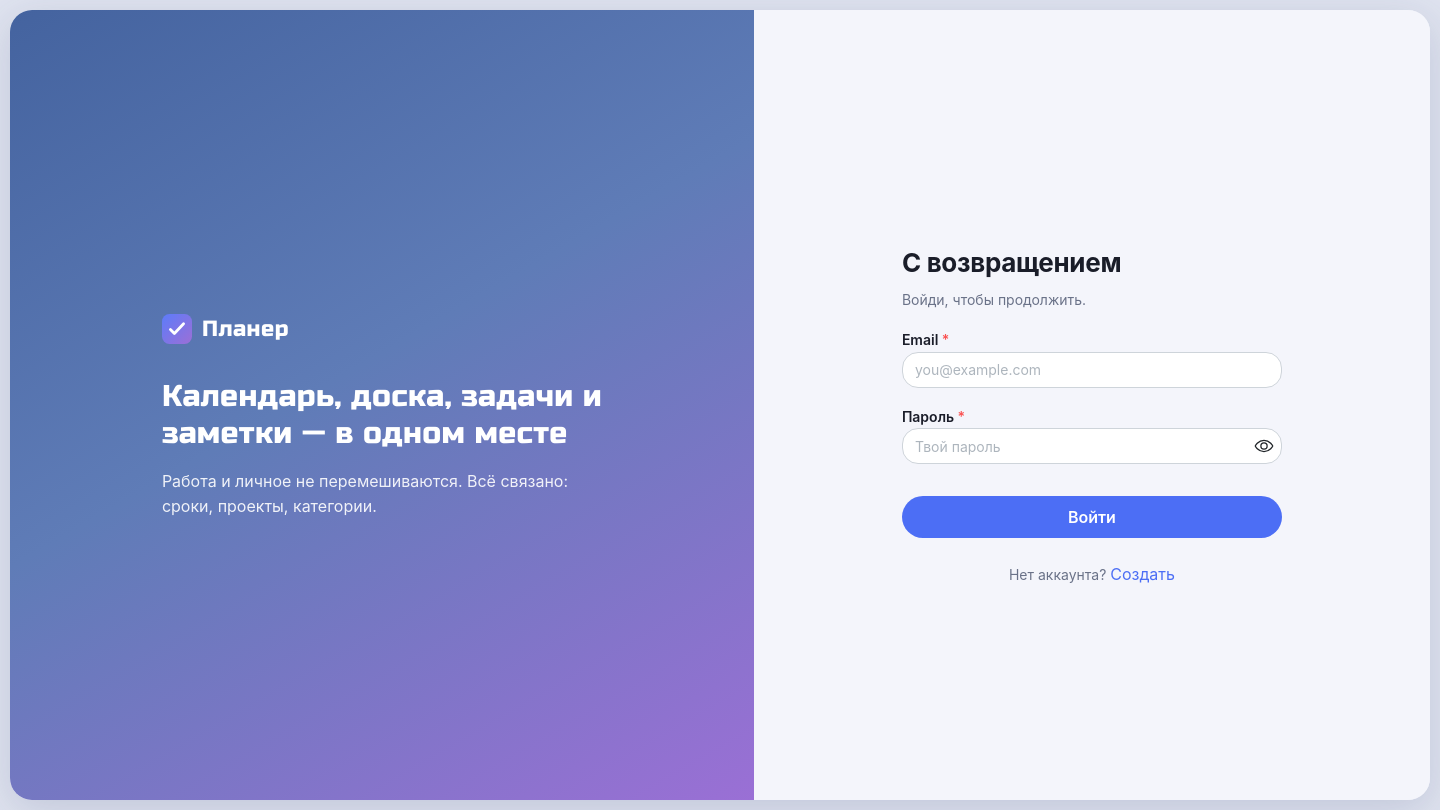
AuthScreen › регистрация: поле имени и первая ошибка поля с сервера
Expected: the field labelled "Имя" is not shown
Step 1. Click the button "Создать" → (1142, 575), box [1110,562,1175,587]
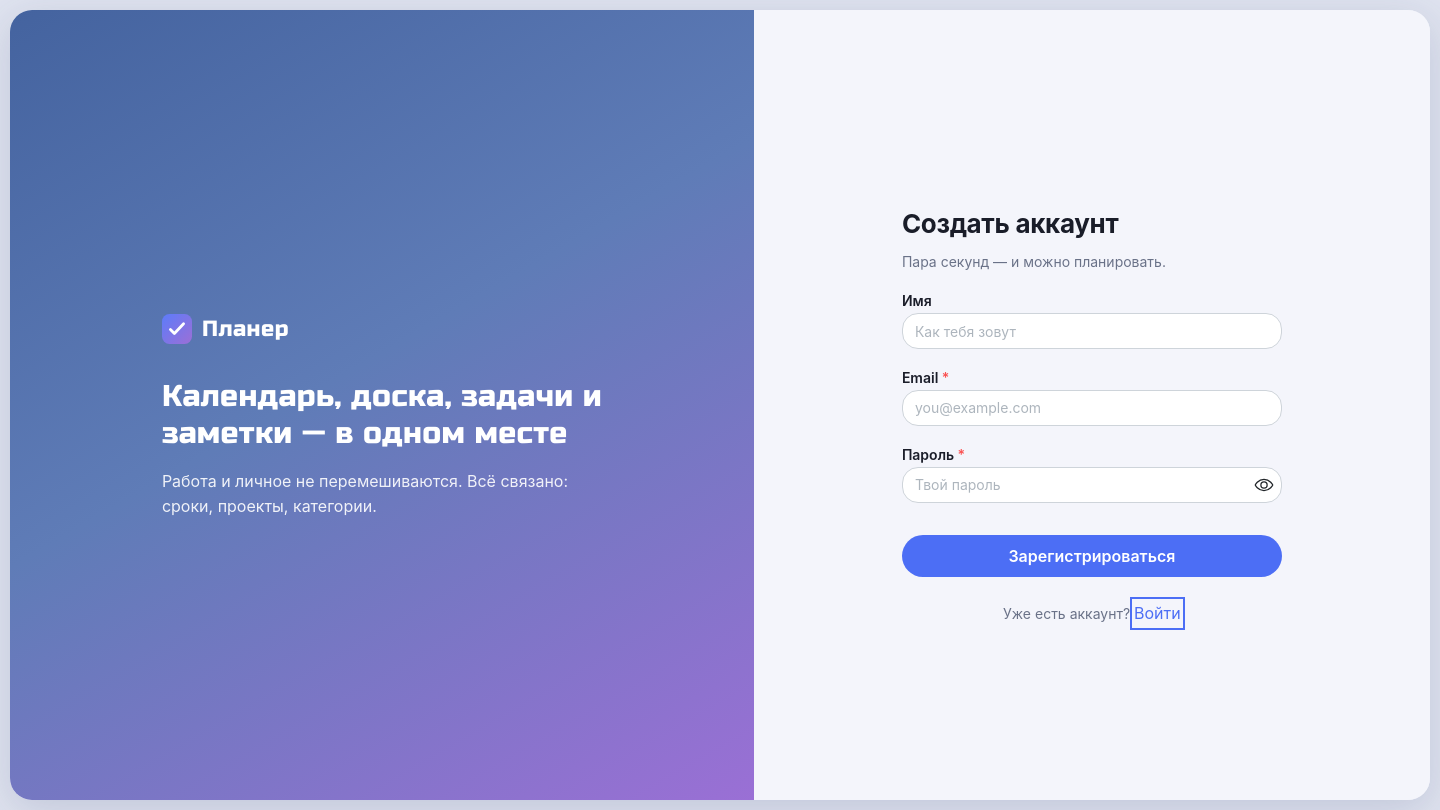
Step 2. Type "Маша" into the field labelled "Имя" → (1092, 331), box [902,313,1282,349]
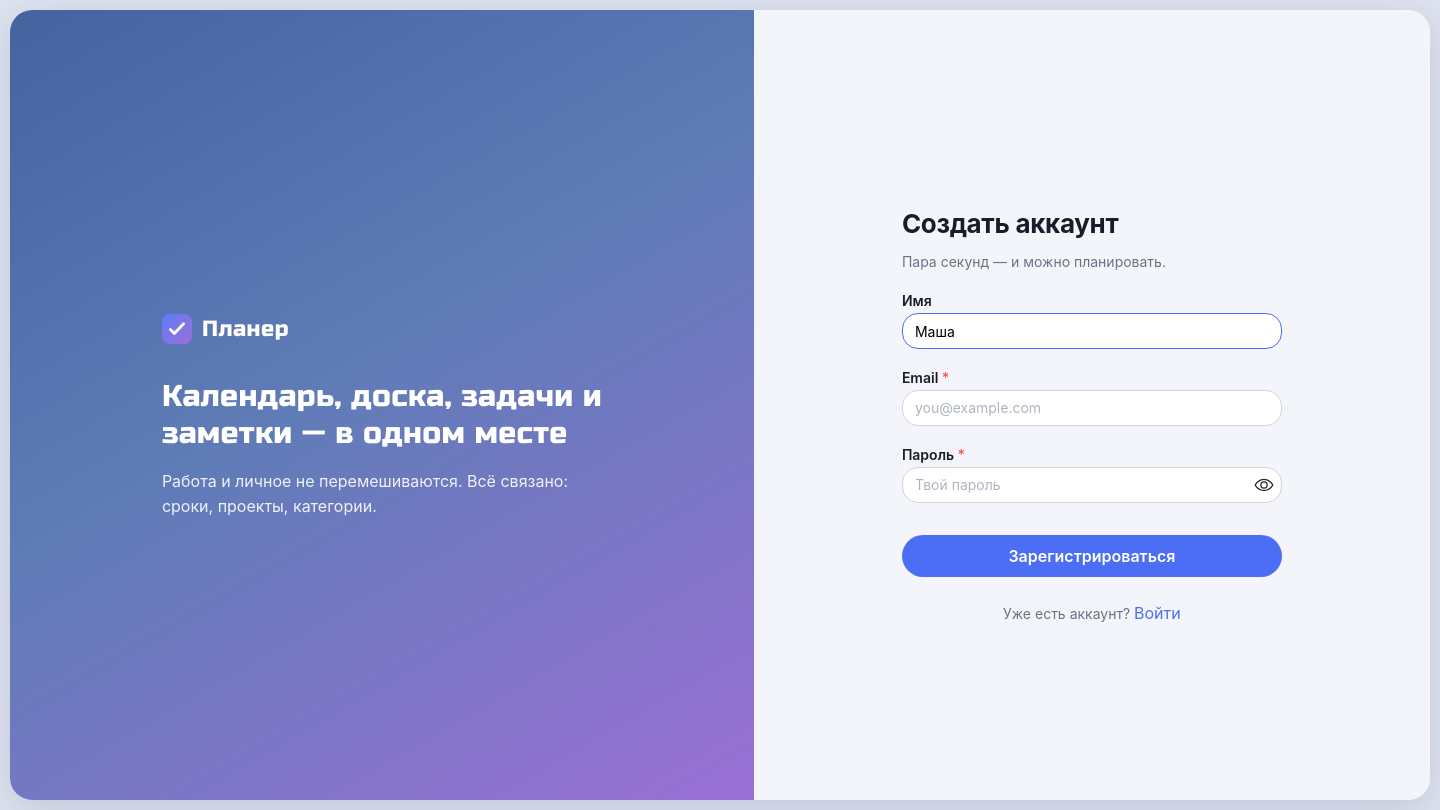
Step 3. Type "m@e.com" into the field labelled "Email *" → (1092, 408), box [902,390,1282,426]
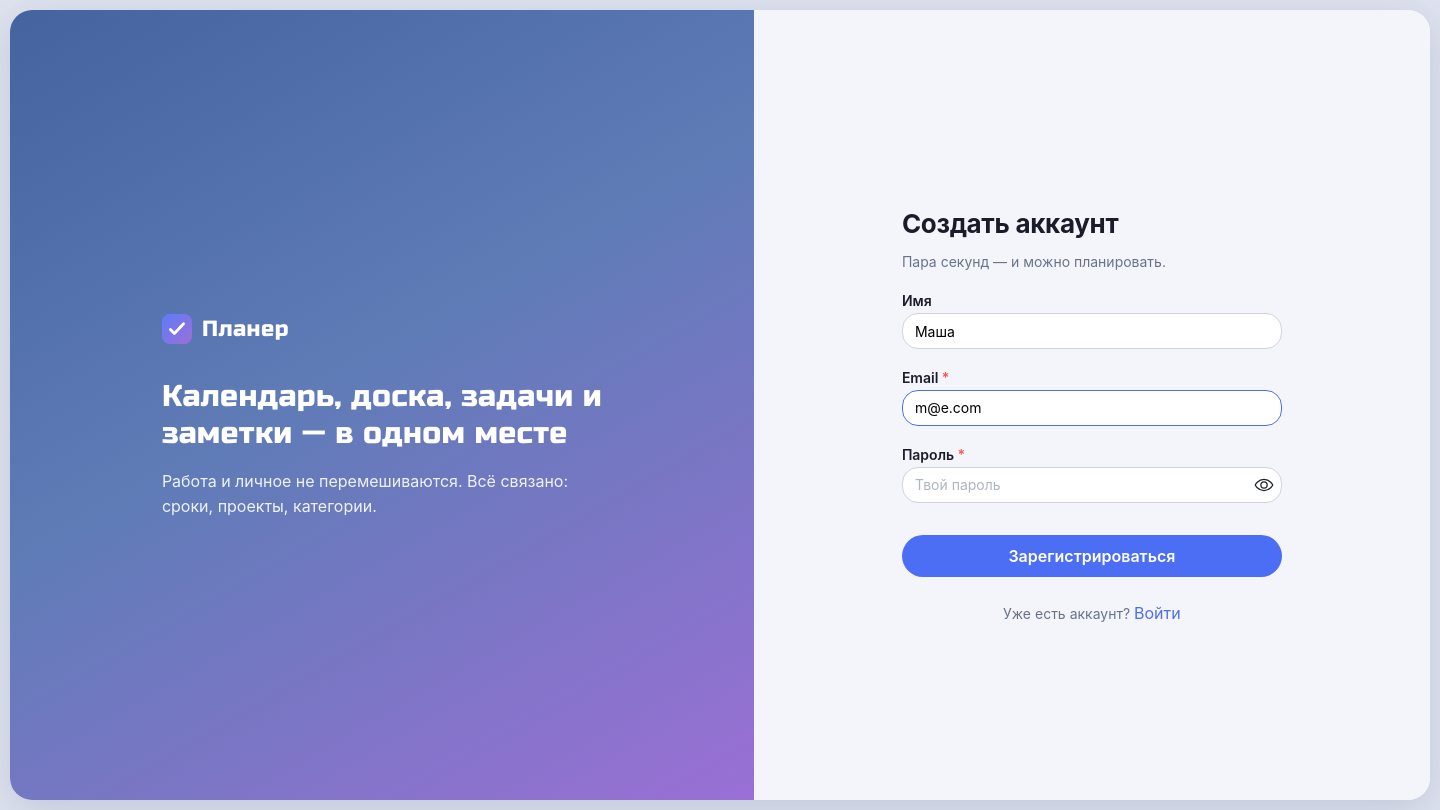
Step 4. Type "1" into the password field labelled "Пароль *" → (1092, 485), box [903,468,1281,502]
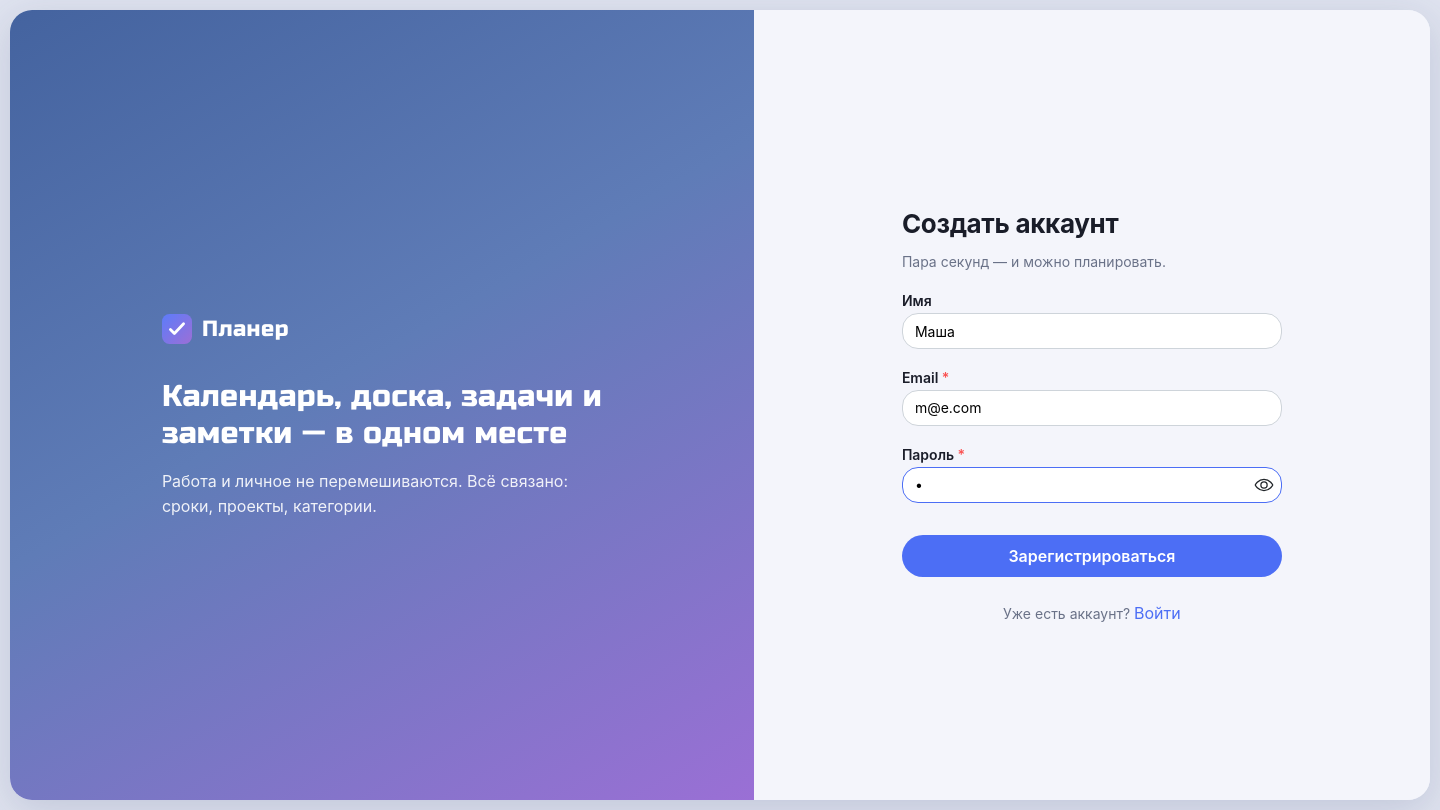
Step 5. Click the button "Зарегистрироваться" → (1092, 556), box [902,535,1282,577]
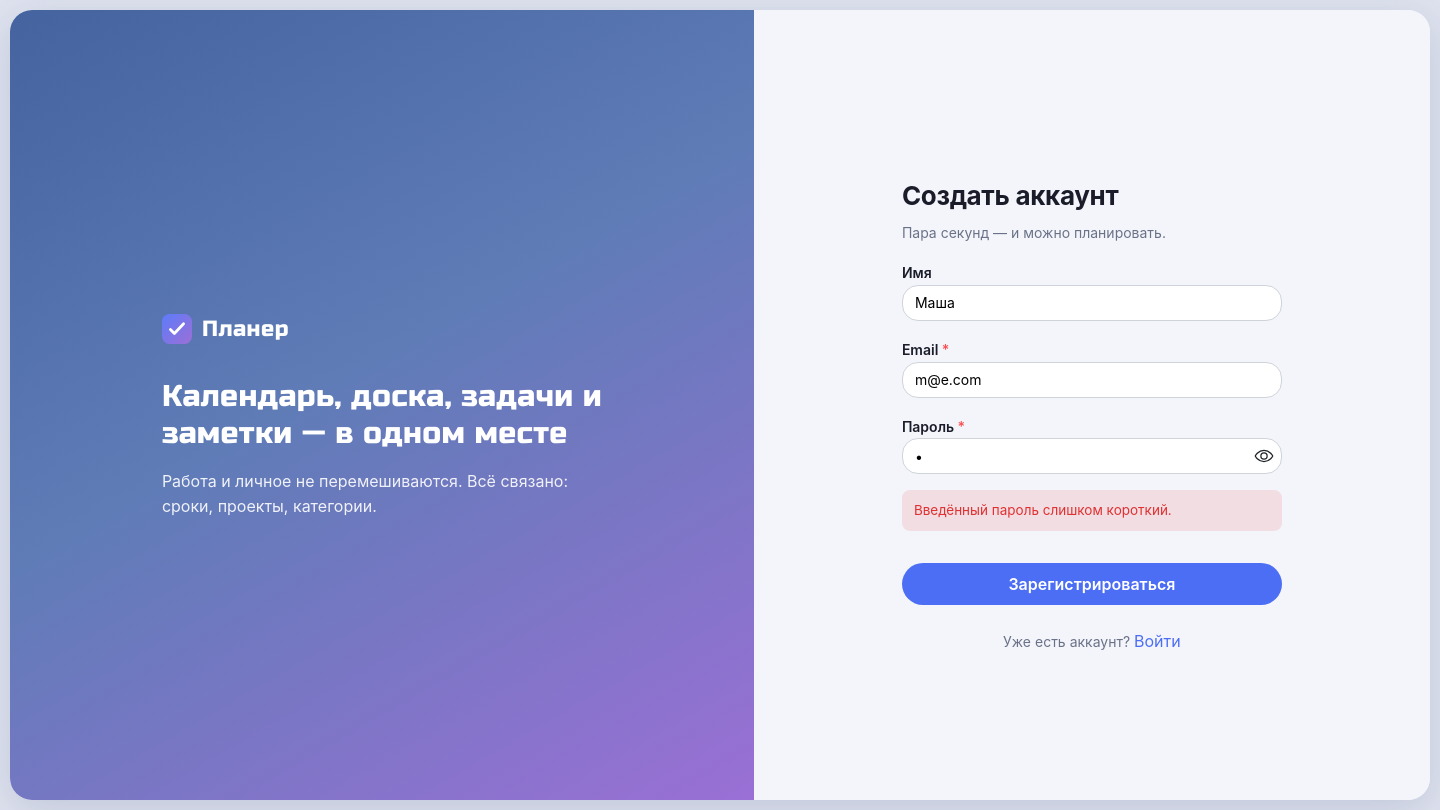
Result: the text "Введённый пароль слишком короткий." is shown at [902,490,1282,531]
